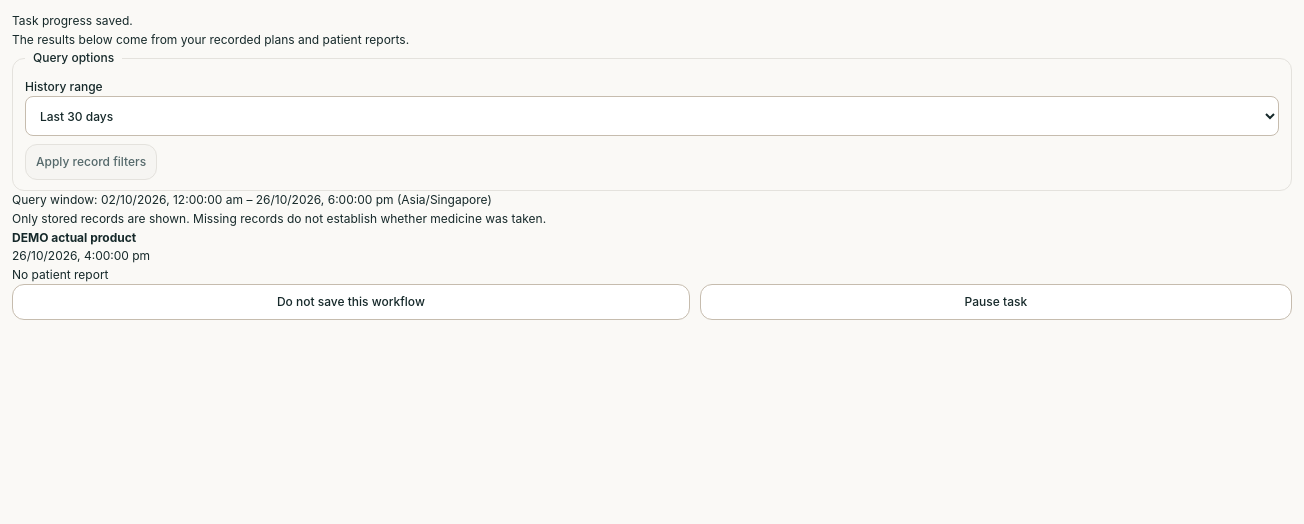
applies history filters with a reset cursor and preserves failed input
Select "Custom dates" in the dropdown labelled "History range" at (652, 116), box [25,96,1279,136]
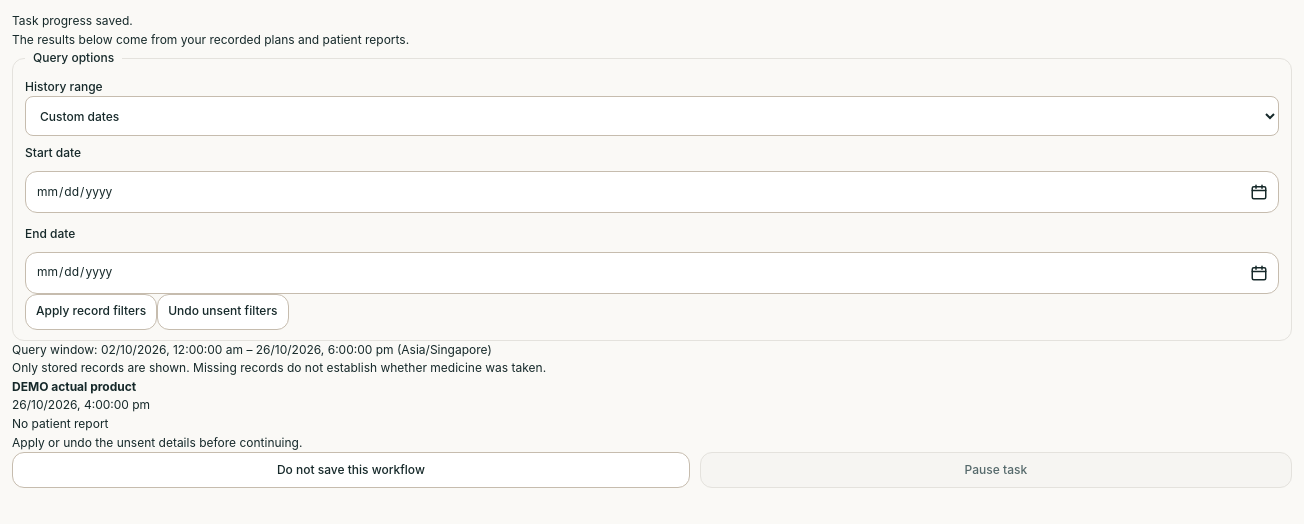
Type "2026-10-03" into the date field labelled "Start date" at (114, 192), box [26,172,202,212]
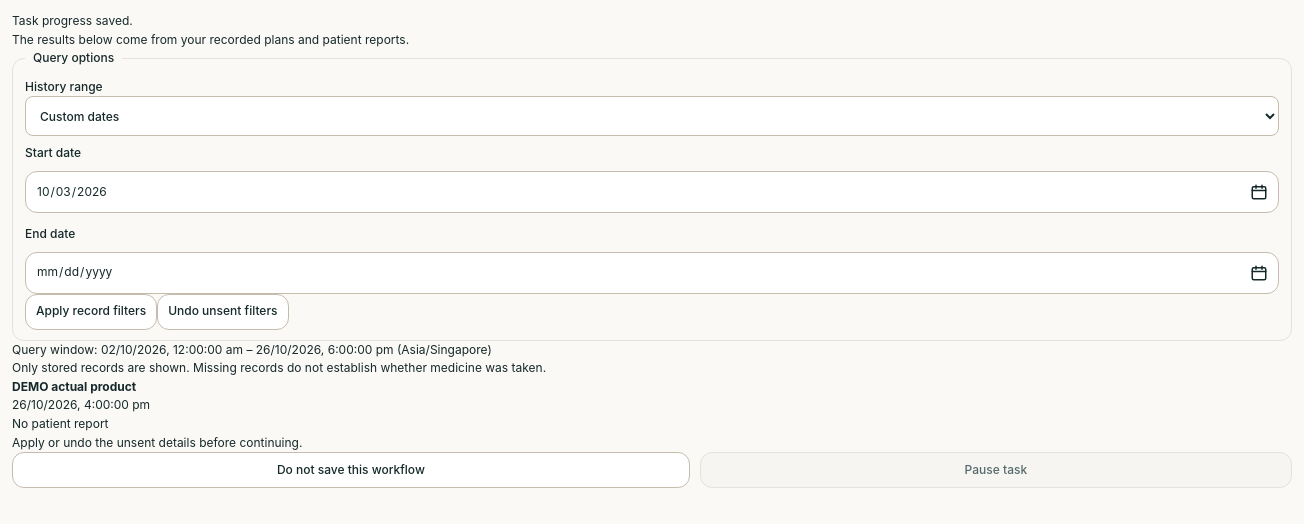
Type "2026-10-04" into the date field labelled "End date" at (114, 273), box [26,253,202,293]
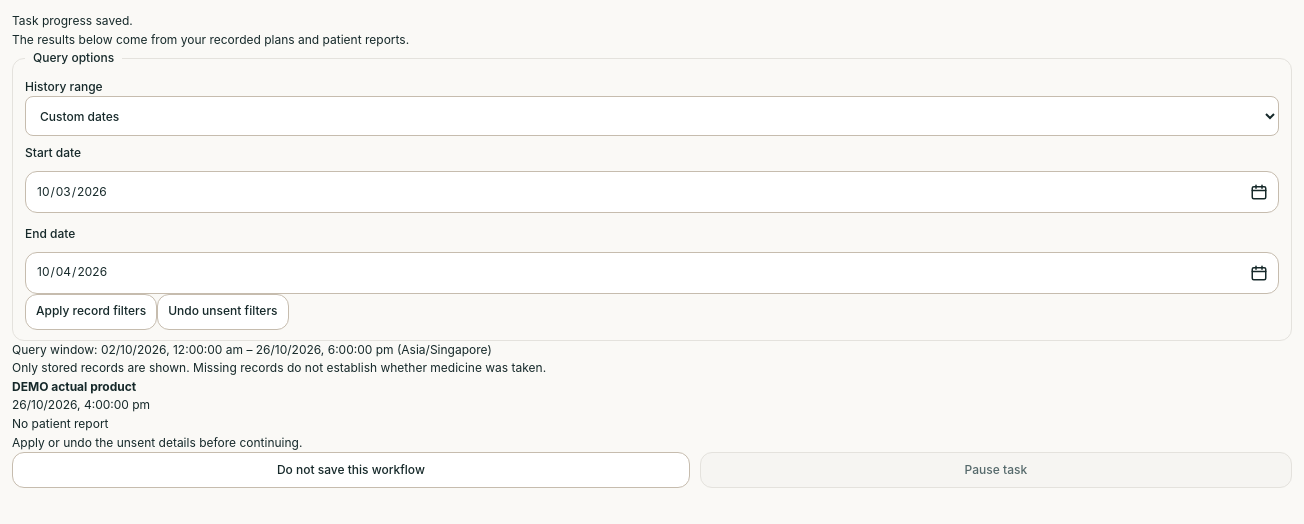
Click the button "Apply record filters" at (91, 312), box [25,294,157,330]
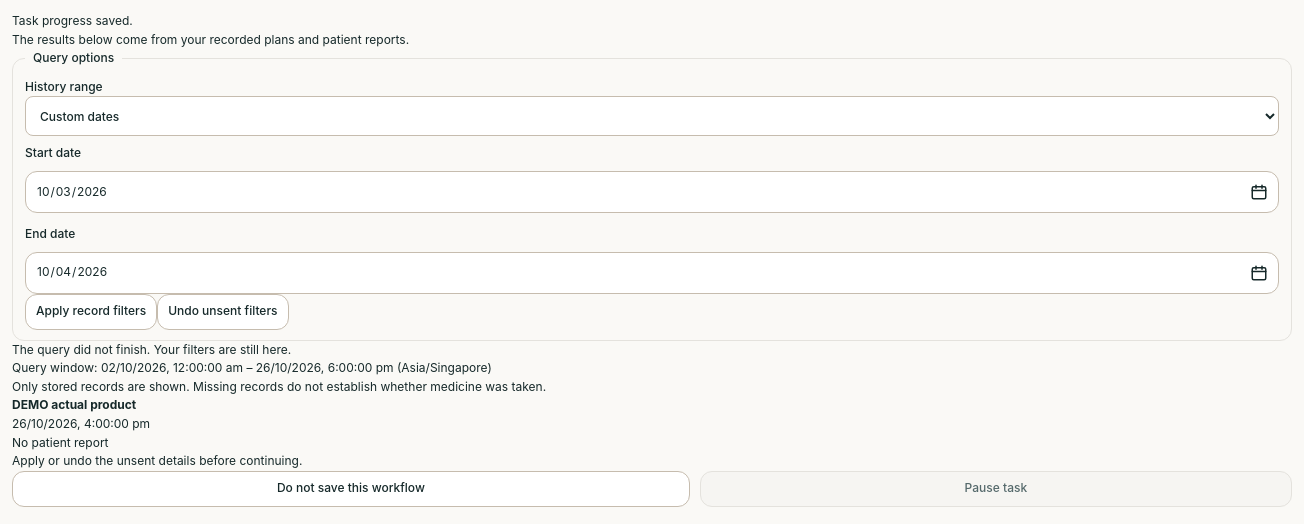
Check: the text "The query did not finish. Your filters are still here." is shown, box [12,342,291,357]
